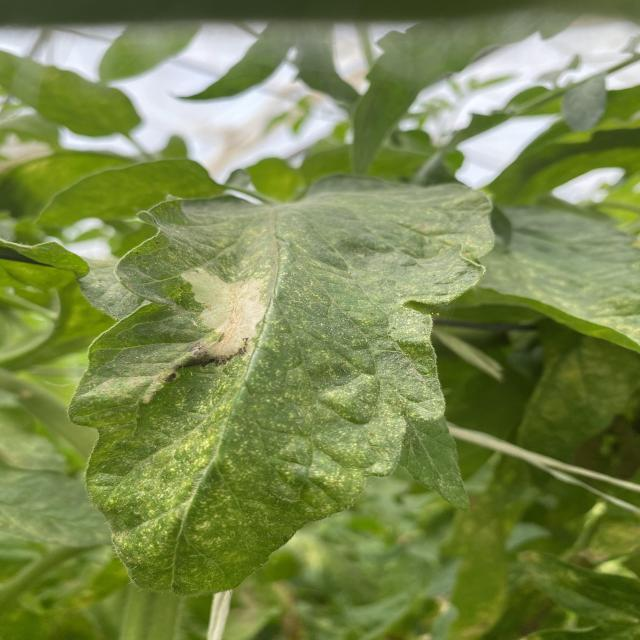Tuta absoluta: (158, 263, 273, 402)
